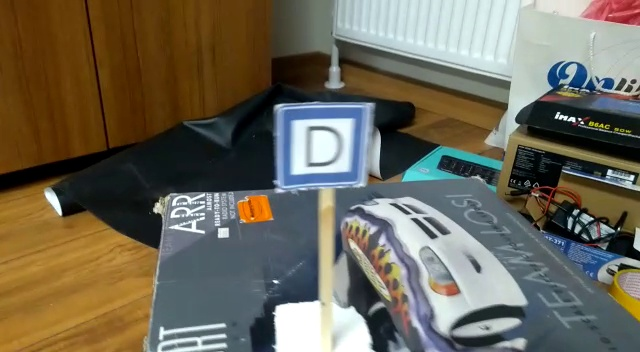durak: (269, 103, 363, 184)
